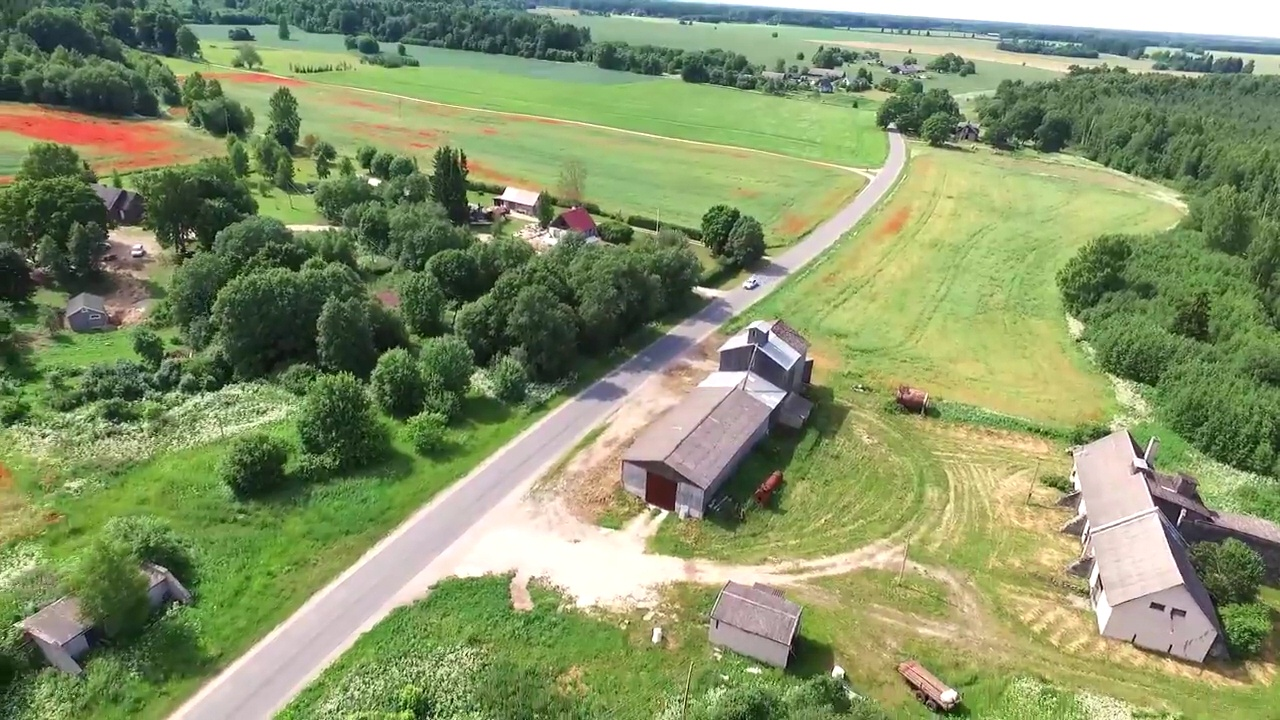araba: (742, 278, 758, 291)
